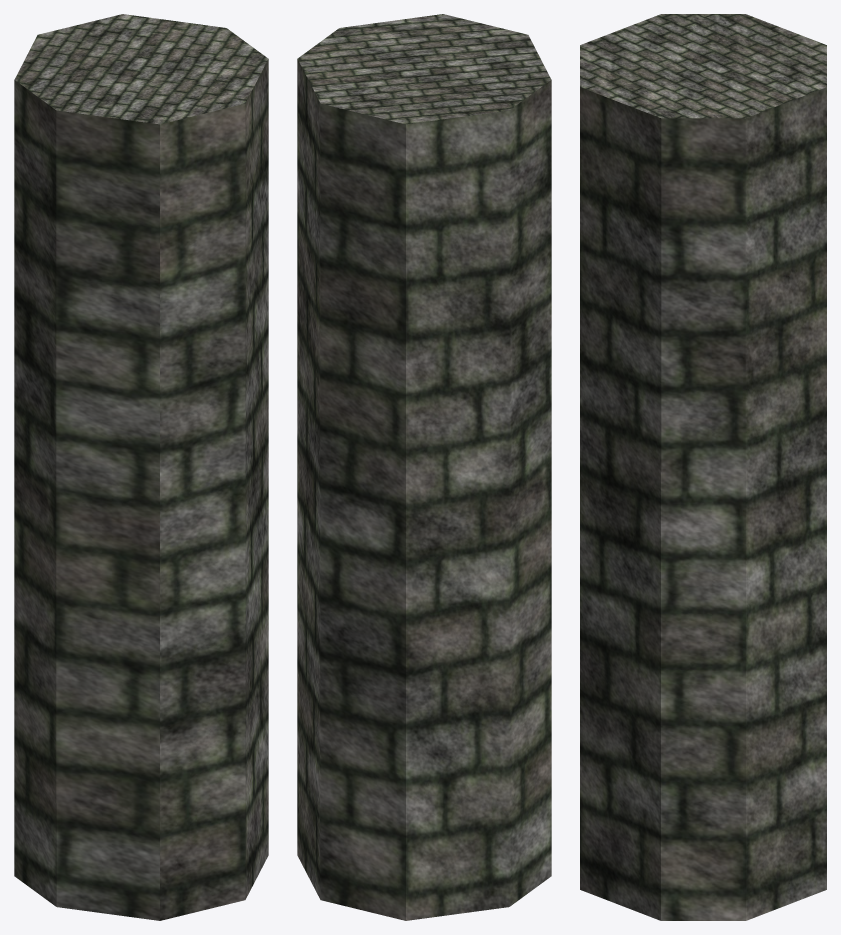
File: Plataforma3.0.fbx
3 renders of one model, left to right at view 1: azimuth 30°, elevation 25°; view 2: azimuth 150°, elevation 25°; view 3: azimuth 270°, elevation 25°, orthographic.
Visible parts, largest first — view 1: Cube.060; view 2: Cube.060; view 3: Cube.060.
Boxes of the visible parts, box(x1,y1,x2,y2) form: Cube.060: box(14, 14, 268, 920); Cube.060: box(297, 14, 551, 920); Cube.060: box(580, 14, 826, 920).
Size of the model in its own units: 98.18 by 352 by 98.18.
